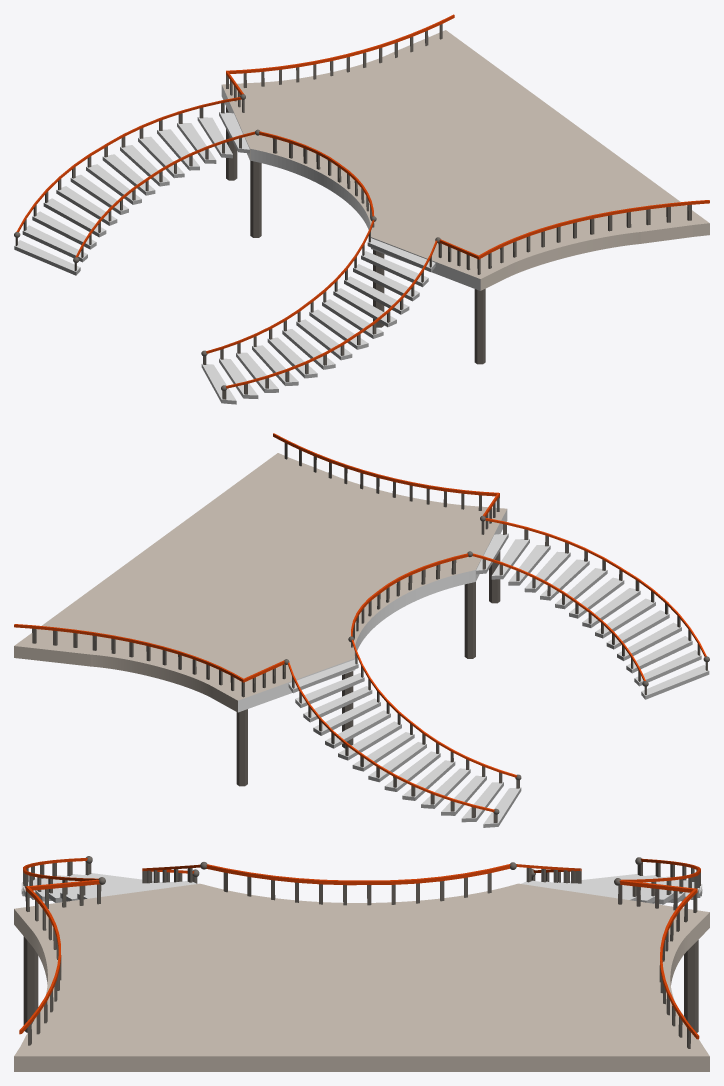
File: top_platform.fbx
3 renders of one model, top to bottom at view 1: azimuth 30°, elevation 25°; view 2: azimuth 150°, elevation 25°; view 3: azimuth 270°, elevation 25°, orthographic. The views are drawn at different scales.
Parts seen in each view (by area): view 1: Cube.040, Cube.427, Cube.038, Cube.039, Cube.059, Cube.425, Cube.050, Cube.049, Cylinder, Cylinder.003, Cube.048; view 2: Cube.040, Cube.039, Cube.059, Cube.427, Cube.038, Cube.425, Cube.049, Cube.050, Cylinder.002, Cylinder.001, Cube.047; view 3: Cube.040, Cube.059, Cube.038, Cube.050, Cube.049, Cube.039, Cube.047, Cube.427, Cube.048, Cylinder.001, Cylinder.003, Cube.052 (+1 smaller).
Part boxes in pixels (left/top/right/bottom): Cube.040: left=222, top=30, right=709, bottom=290; Cube.427: left=14, top=145, right=146, bottom=275; Cube.038: left=309, top=220, right=437, bottom=349; Cube.039: left=201, top=300, right=357, bottom=404; Cube.059: left=102, top=97, right=254, bottom=195; Cube.425: left=221, top=85, right=480, bottom=290; Cube.050: left=477, top=200, right=709, bottom=274; Cube.049: left=226, top=14, right=454, bottom=88; Cylinder: left=250, top=160, right=261, bottom=237; Cylinder.003: left=474, top=289, right=485, bottom=364; Cube.048: left=259, top=131, right=339, bottom=182; Cube.040: left=14, top=453, right=506, bottom=712; Cube.039: left=577, top=568, right=709, bottom=699; Cube.059: left=288, top=640, right=414, bottom=771; Cube.427: left=363, top=723, right=521, bottom=827; Cube.038: left=472, top=518, right=624, bottom=618; Cube.425: left=238, top=509, right=507, bottom=712; Cube.049: left=14, top=624, right=244, bottom=697; Cube.050: left=273, top=433, right=499, bottom=511; Cylinder.002: left=464, top=582, right=475, bottom=658; Cylinder.001: left=236, top=709, right=247, bottom=786; Cube.047: left=378, top=553, right=468, bottom=602; Cube.040: left=14, top=883, right=709, bottom=1071; Cube.059: left=516, top=864, right=701, bottom=904; Cube.038: left=22, top=864, right=200, bottom=902; Cube.050: left=19, top=886, right=61, bottom=1045; Cube.049: left=659, top=888, right=699, bottom=1048; Cube.039: left=21, top=858, right=197, bottom=893; Cube.047: left=206, top=864, right=370, bottom=905; Cube.427: left=531, top=858, right=702, bottom=896; Cube.048: left=368, top=864, right=510, bottom=904; Cylinder.001: left=684, top=940, right=698, bottom=1032; Cylinder.003: left=23, top=936, right=38, bottom=1032; Cube.052: left=618, top=880, right=694, bottom=910.
Bounding box in the file's own units: 4058 × 921 × 4000.
